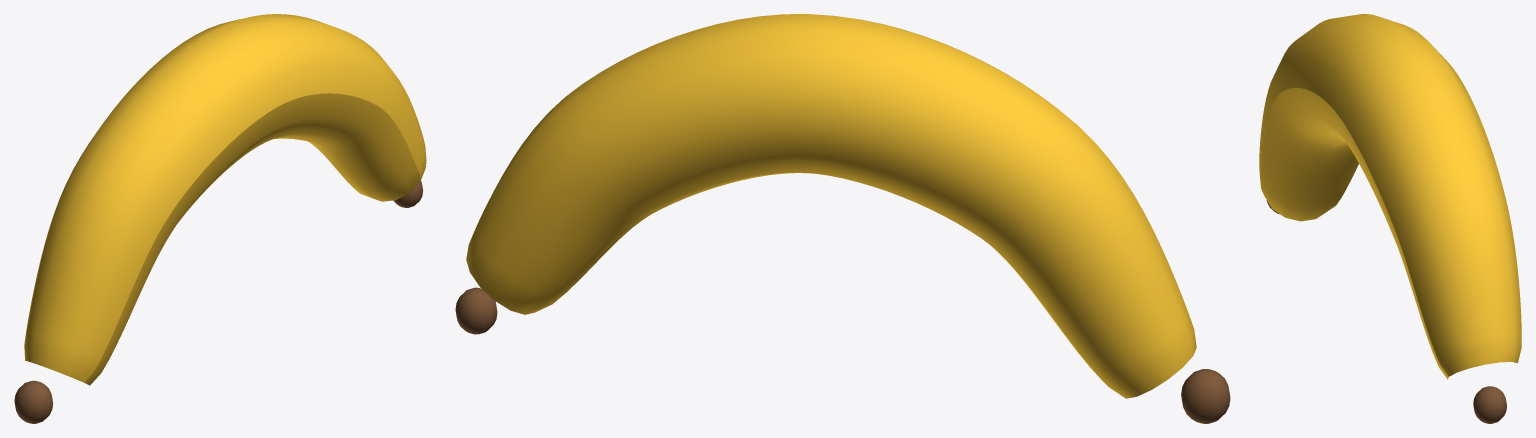
Rendered from banana.glb.
The picture shows the model from 3 angles, left to right: view 1: azimuth 30°, elevation 25°; view 2: azimuth 150°, elevation 25°; view 3: azimuth 270°, elevation 25°; orthographic projection. The views are drawn at different scales.
Visible parts, largest first — view 1: banana; view 2: banana; view 3: banana.
Part boxes in pixels (<box>): banana: <box>14,14,426,423</box>; banana: <box>455,14,1230,423</box>; banana: <box>1259,14,1521,423</box>.
Size of the model in its own units: 2.36 by 1.3 by 1.04.
